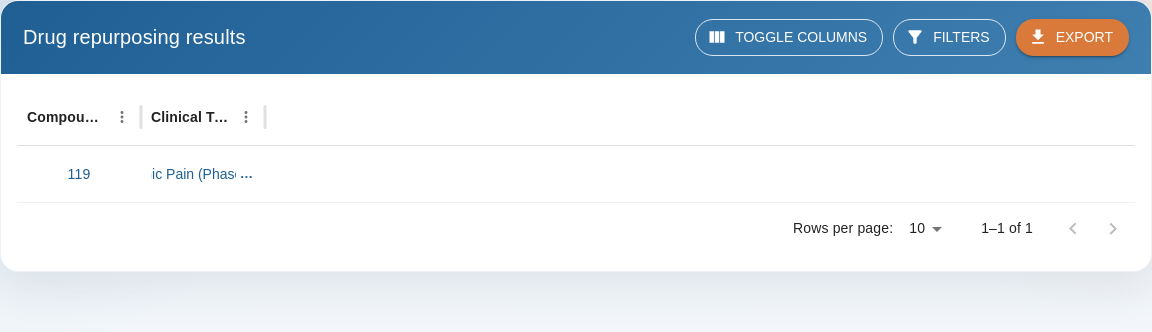
Scenario: DataPanel rich cells › renders direct CID links and labeled menu actions
This screenshot has width=1152, height=332.
Click the button "Chronic Pain (Phase2)" at (193, 174), box x1=151 y1=164 x2=236 y2=184
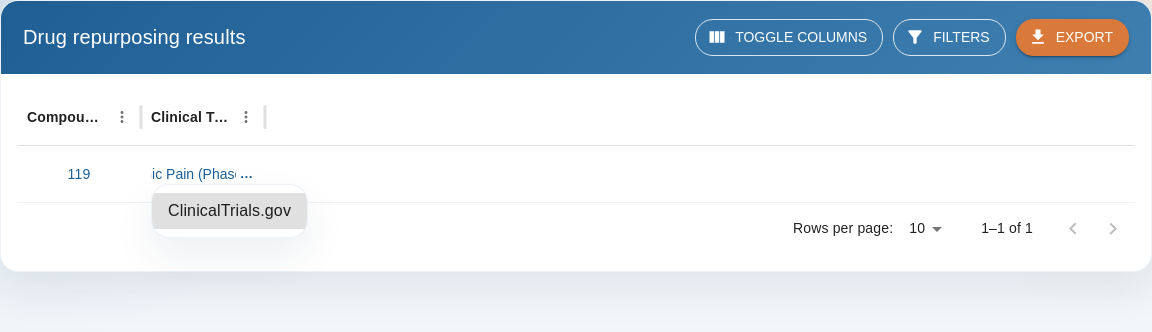
Expected: the menu item "ClinicalTrials.gov" is shown, x1=152 y1=193 x2=307 y2=229
